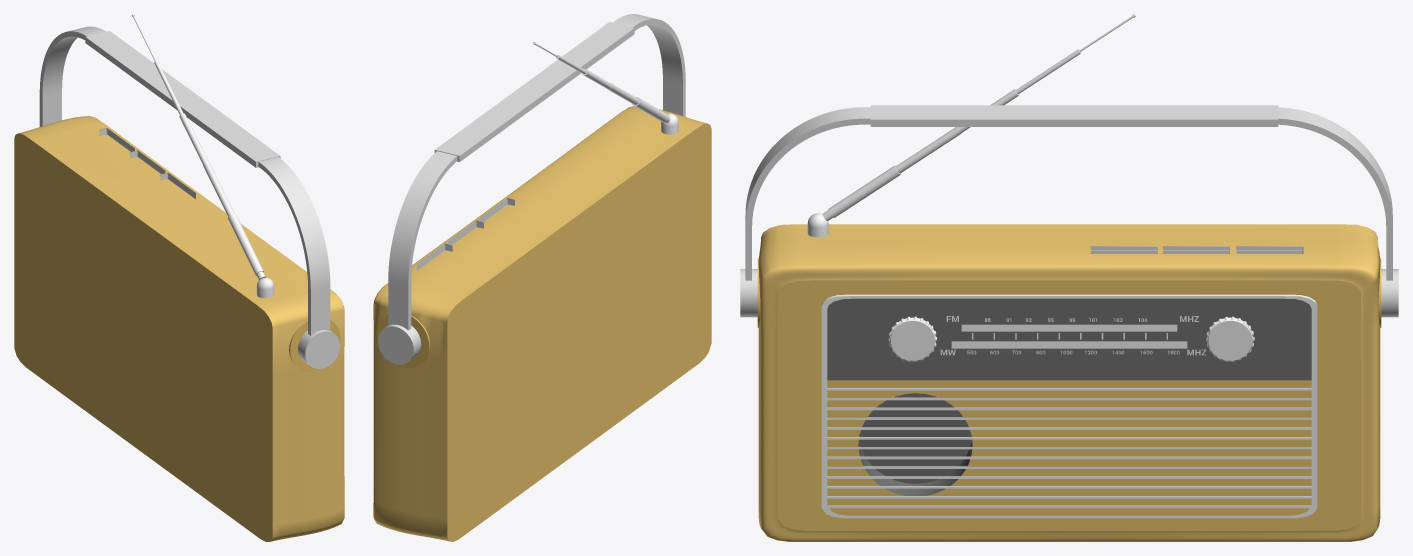
The model's file is radio.glb.
3 renders of one model, left to right at view 1: azimuth 30°, elevation 25°; view 2: azimuth 150°, elevation 25°; view 3: azimuth 270°, elevation 25°, orthographic. The views are drawn at different scales.
Visible parts, largest first — view 1: Budowa; view 2: Budowa; view 3: Budowa.
Part boxes in pixels (box(x1,y1,x2,y2)): Budowa: box(14, 14, 344, 541); Budowa: box(373, 14, 711, 541); Budowa: box(740, 14, 1398, 541).
Size of the model in its own units: 0.4085 by 2.05 by 2.45.
